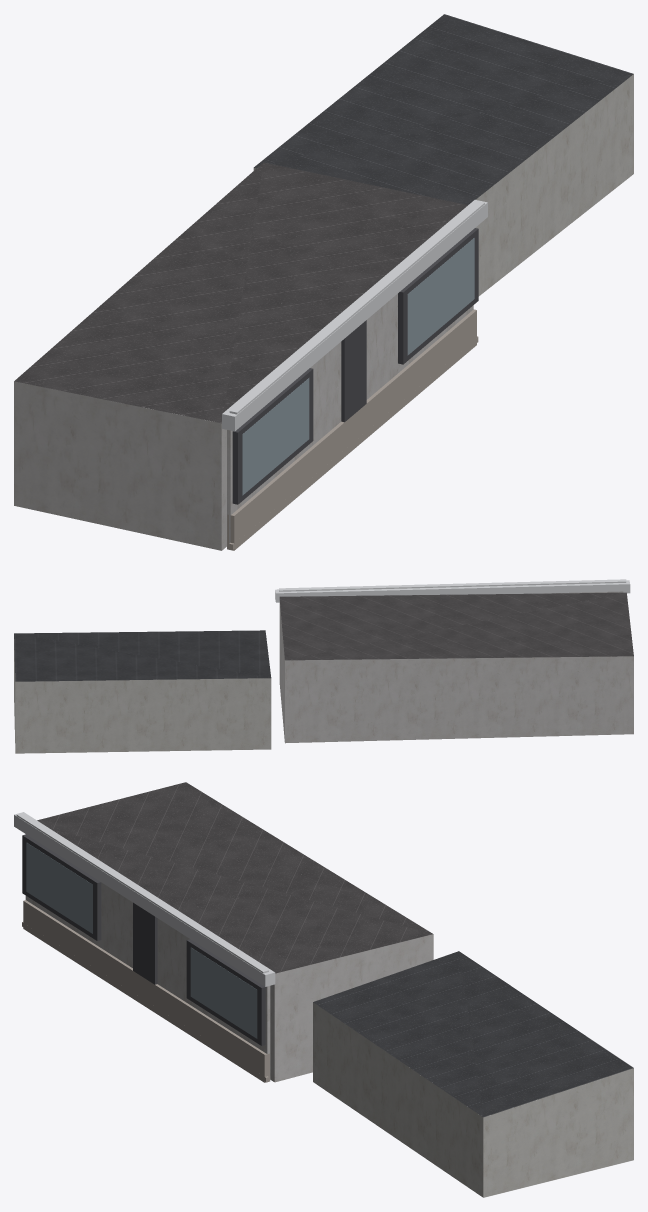
The picture shows the model from 3 angles, top to bottom: view 1: azimuth 30°, elevation 25°; view 2: azimuth 150°, elevation 25°; view 3: azimuth 270°, elevation 25°; orthographic projection. The views are drawn at different scales.
Parts seen in each view (by area): view 1: bldg_6004321180_roof, bldg_6004321180_facade0, bldg_6008396539_roof, bldg_6004321180, bldg_6008396539; view 2: bldg_6004321180, bldg_6004321180_roof, bldg_6008396539, bldg_6008396539_roof, bldg_6004321180_facade0; view 3: bldg_6004321180_roof, bldg_6004321180_facade0, bldg_6008396539, bldg_6008396539_roof, bldg_6004321180.
Boxes of the visible parts, x1,y1,x2,y2 form: bldg_6004321180_roof: [14, 162, 467, 423]; bldg_6004321180_facade0: [222, 199, 487, 550]; bldg_6008396539_roof: [254, 14, 633, 204]; bldg_6004321180: [14, 381, 226, 550]; bldg_6008396539: [253, 74, 633, 296]; bldg_6004321180: [279, 596, 633, 743]; bldg_6004321180_roof: [279, 592, 633, 660]; bldg_6008396539: [14, 639, 271, 753]; bldg_6008396539_roof: [14, 630, 271, 681]; bldg_6004321180_facade0: [275, 579, 630, 602]; bldg_6004321180_roof: [37, 782, 432, 973]; bldg_6004321180_facade0: [14, 812, 275, 1082]; bldg_6008396539: [313, 1002, 633, 1197]; bldg_6008396539_roof: [313, 951, 633, 1117]; bldg_6004321180: [270, 934, 433, 1082].
Size of the model in its own units: 21.73 by 3.65 by 18.03.
Materials: 8 (4 with a texture image).
